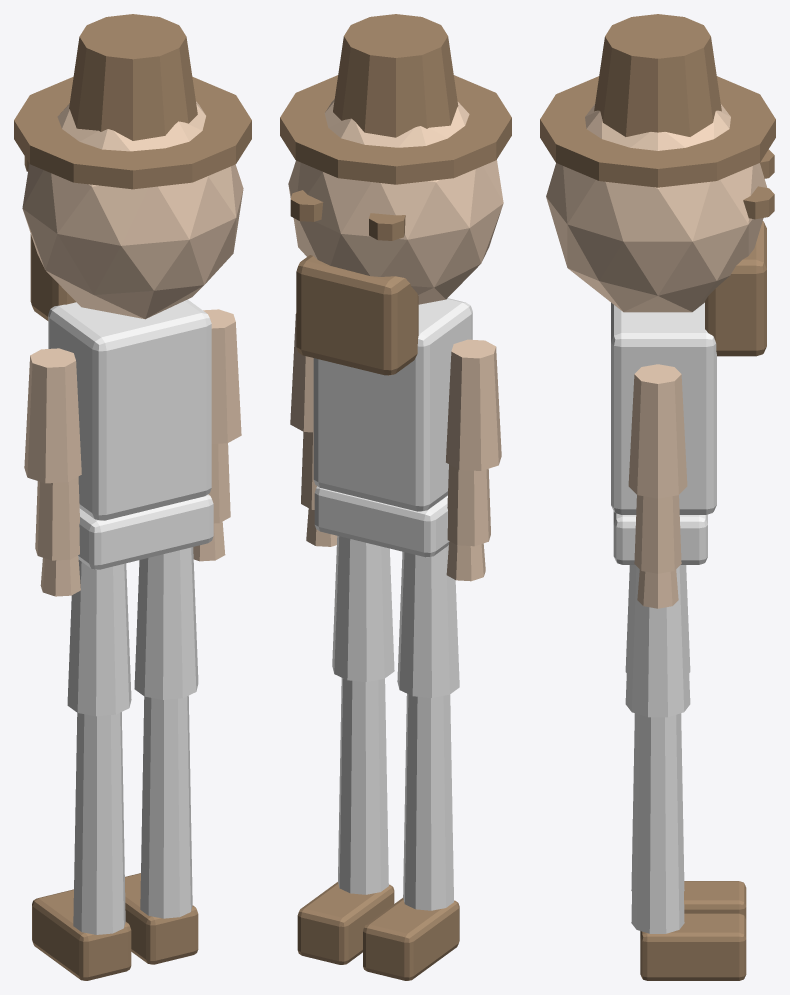
The model's file is Personaje_Masculino.fbx.
3 renders of one model, left to right at view 1: azimuth 30°, elevation 25°; view 2: azimuth 150°, elevation 25°; view 3: azimuth 270°, elevation 25°, orthographic. The views are drawn at different scales.
Visible parts, largest first — view 1: Personaje_Masculino; view 2: Personaje_Masculino; view 3: Personaje_Masculino.
Part boxes in pixels (x1,y1,x2,y2): Personaje_Masculino: (14, 14, 251, 980); Personaje_Masculino: (280, 14, 511, 980); Personaje_Masculino: (540, 14, 775, 980).
Size of the model in its own units: 0.41 by 1.72 by 0.4.
